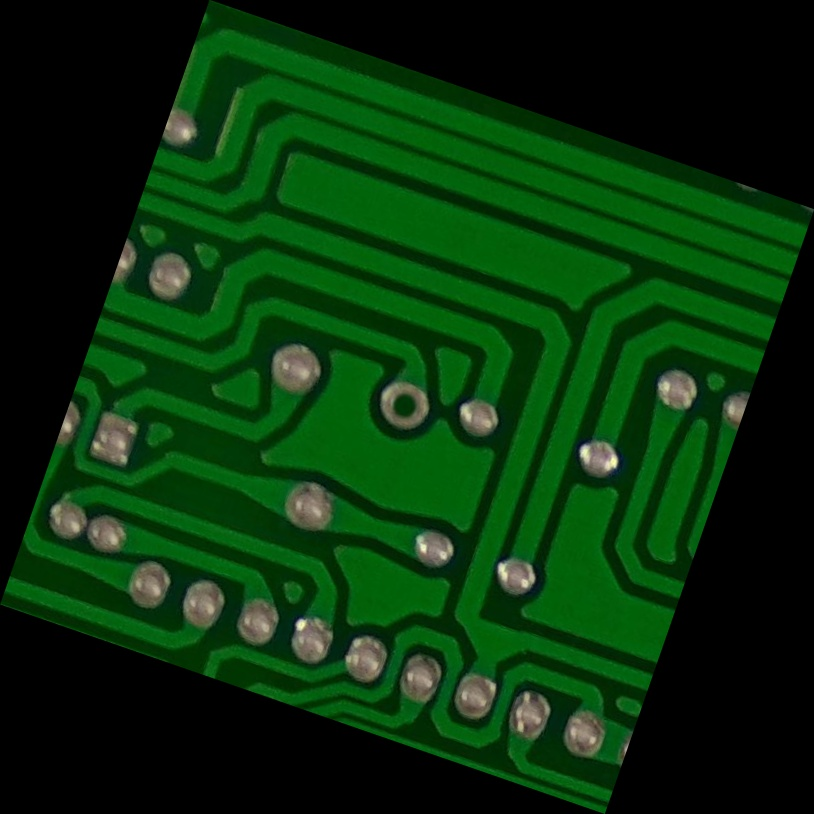missing_hole: (364, 367, 450, 449)
